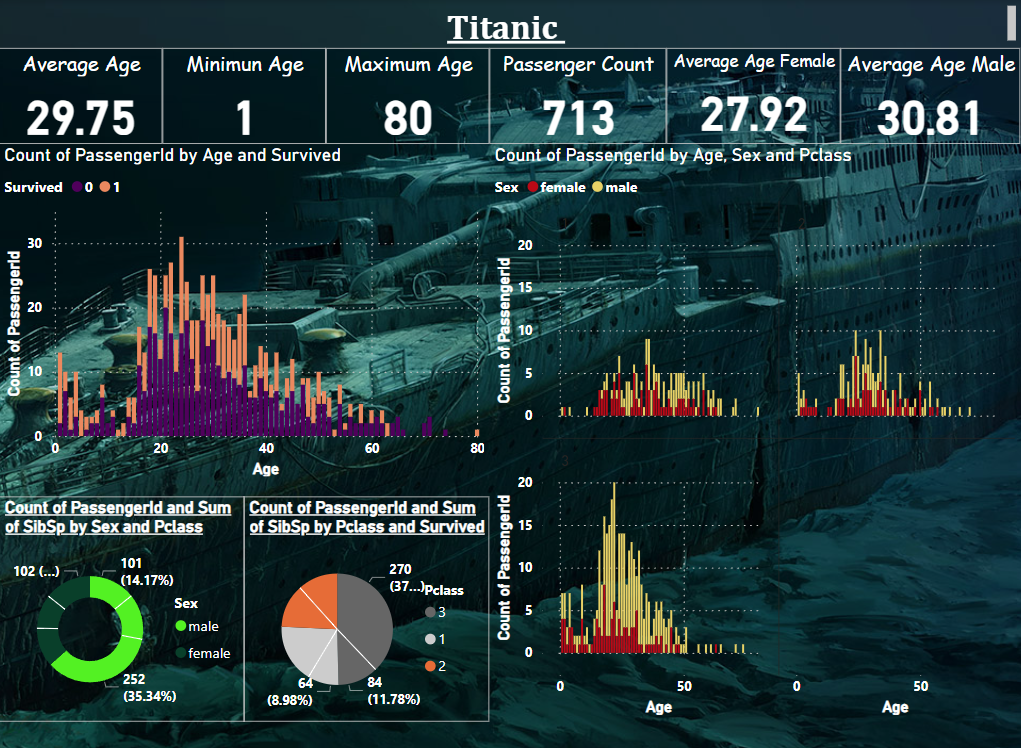

What the dashboard file says about the page in this screenshot:
{"tool":"powerbi","page":{"name":"Page 1","canvas":[960,705],"ordinal":0},"visuals":[{"type":"textbox","box":[0,0,959.5,45.4],"z":0},{"type":"cardVisual","title":"Average Age","fields":{"Data":["Avg(titanic_survival titanic-dataset (1).Age)"]},"box":[0,45.1,153.5,90.1],"z":1000},{"type":"cardVisual","title":"Minimun Age","fields":{"Data":["Min(titanic_survival titanic-dataset (1).Age)"]},"box":[153.5,45.1,153.5,90.1],"z":2000},{"type":"cardVisual","title":"Maximum Age","fields":{"Data":["Max(titanic_survival titanic-dataset (1).Age)"]},"box":[307,45.1,153.5,90.1],"z":3000},{"type":"cardVisual","title":"Passenger Count","fields":{"Data":["CountNonNull(titanic_survival titanic-dataset (1).PassengerId)"]},"box":[460.5,45.1,166.2,90.1],"z":4000},{"type":"cardVisual","title":"Average Age Female","fields":{"Data":["Avg(titanic_survival titanic-dataset (1).Age)"]},"box":[626.6,45.1,163.3,90.1],"z":5000},{"type":"cardVisual","title":"Average Age Male","fields":{"Data":["Avg(titanic_survival titanic-dataset (1).Age)"]},"box":[790,45.1,169,90.1],"z":6000},{"type":"columnChart","fields":{"Category":["titanic_survival titanic-dataset (1).Age"],"Y":["CountNonNull(titanic_survival titanic-dataset (1).PassengerId)"],"Series":["titanic_survival titanic-dataset (1).Survived"]},"box":[0,135.2,460.5,316.8],"z":7000},{"type":"columnChart","fields":{"Category":["titanic_survival titanic-dataset (1).Age"],"Y":["CountNonNull(titanic_survival titanic-dataset (1).PassengerId)"],"Series":["titanic_survival titanic-dataset (1).Sex"],"Rows":["titanic_survival titanic-dataset (1).Pclass"]},"box":[460.5,135.2,498.5,542.1],"z":8000},{"type":"donutChart","fields":{"Category":["titanic_survival titanic-dataset (1).Sex"],"Y":["CountNonNull(titanic_survival titanic-dataset (1).PassengerId)"],"Series":["titanic_survival titanic-dataset (1).Pclass"]},"box":[0,466.1,230.9,211.2],"z":9000},{"type":"pieChart","fields":{"Category":["titanic_survival titanic-dataset (1).Pclass"],"Y":["CountNonNull(titanic_survival titanic-dataset (1).PassengerId)"],"Series":["titanic_survival titanic-dataset (1).Survived"]},"box":[229.5,466.1,230.9,211.2],"z":10000}]}

Visuals, with their boxes in screenshot pixels (x1, y1, x2, y2), scaled from the page's 960x705 canvas onto the 1021x748 screenshot:
textbox: box(0, 0, 1020, 48)
"Average Age" cardVisual: box(0, 48, 163, 143)
"Minimun Age" cardVisual: box(163, 48, 327, 143)
"Maximum Age" cardVisual: box(327, 48, 490, 143)
"Passenger Count" cardVisual: box(490, 48, 667, 143)
"Average Age Female" cardVisual: box(666, 48, 840, 143)
"Average Age Male" cardVisual: box(840, 48, 1020, 143)
columnChart - titanic_survival titanic-dataset (1).Age x CountNonNull(titanic_survival titanic-dataset (1).PassengerId): box(0, 143, 490, 480)
columnChart - titanic_survival titanic-dataset (1).Age x CountNonNull(titanic_survival titanic-dataset (1).PassengerId): box(490, 143, 1020, 719)
donutChart - titanic_survival titanic-dataset (1).Sex x CountNonNull(titanic_survival titanic-dataset (1).PassengerId): box(0, 495, 246, 719)
pieChart - titanic_survival titanic-dataset (1).Pclass x CountNonNull(titanic_survival titanic-dataset (1).PassengerId): box(244, 495, 490, 719)
